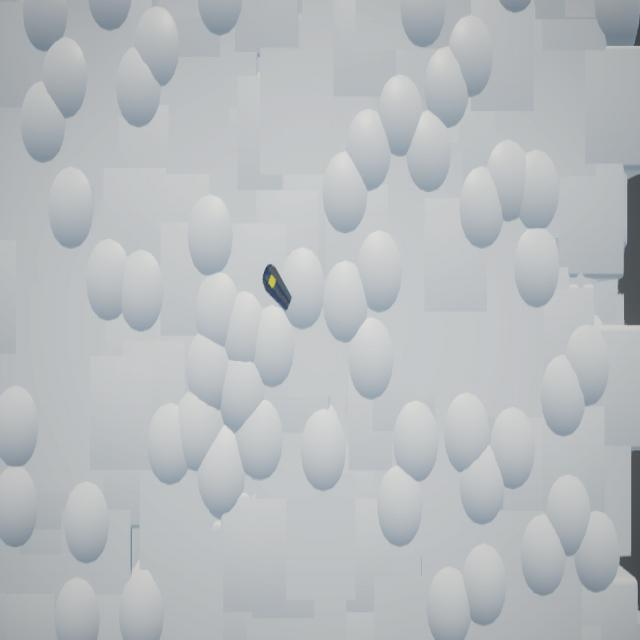handle_folk: (264, 264, 294, 313)
